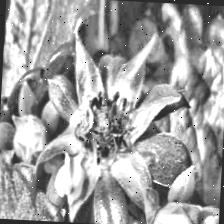Blossom Blight: (72, 88, 142, 168)
